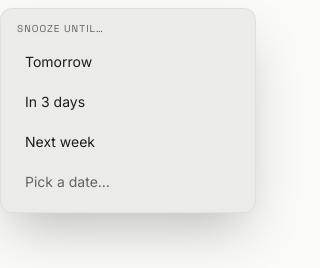
Scenario: SnoozeMenu — custom date mode › shows the date picker + Back/Snooze buttons after clicking 'Pick a date…'
Click the button "Pick a date…" at x=128, y=182, box [13, 164, 243, 200]
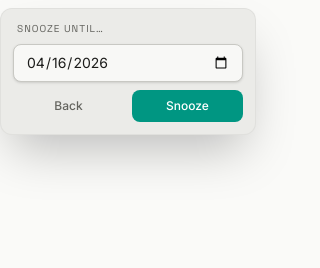
Expected: the button "Back" is shown, [13, 90, 124, 122]
Expected: the button "Snooze" is shown, [132, 90, 243, 122]
